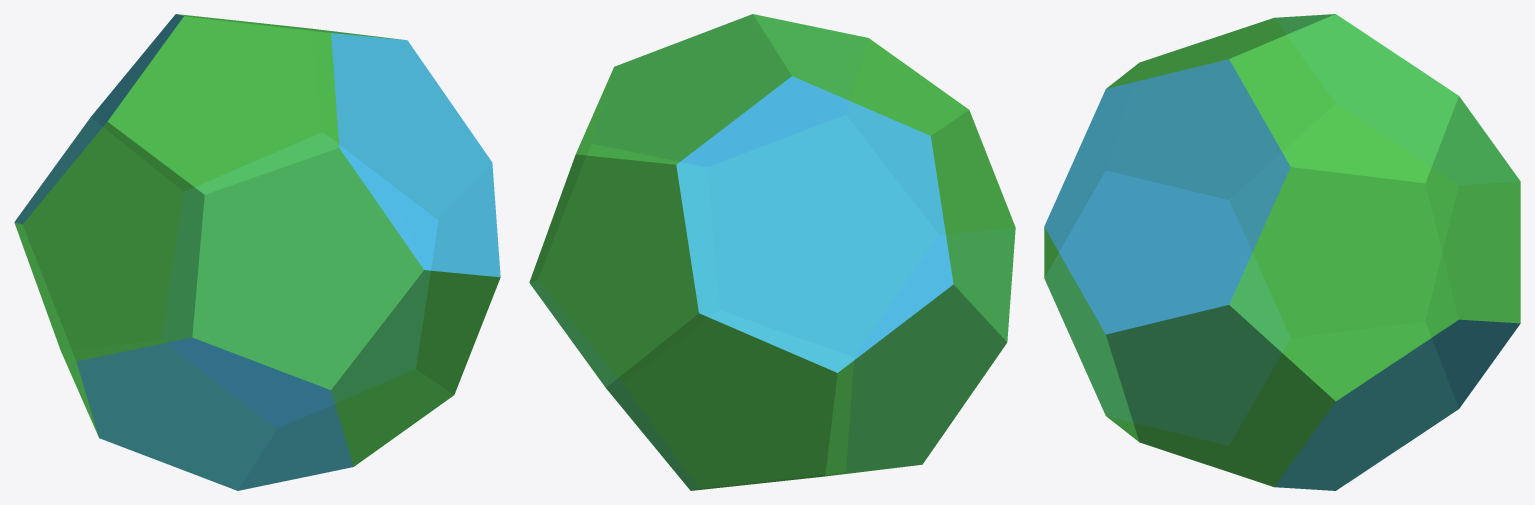
Rendered from TruncatedTriakisTetrahedron.obj.
3 renders of one model, left to right at view 1: azimuth 30°, elevation 25°; view 2: azimuth 150°, elevation 25°; view 3: azimuth 270°, elevation 25°, orthographic.
Bounding box in the file's own units: 3.16 × 3.16 × 3.16.
